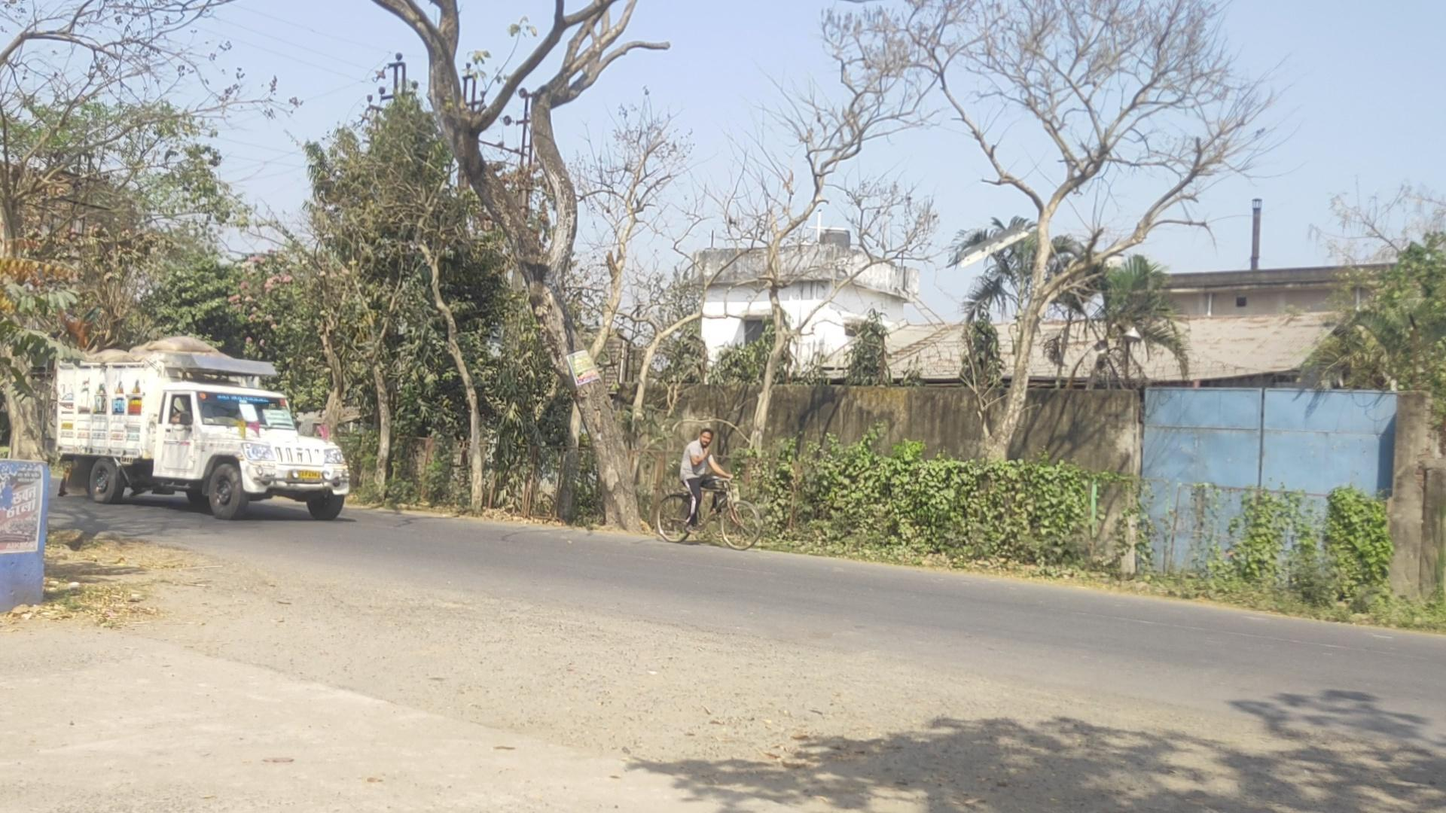bike: (658, 426, 764, 551)
van: (56, 333, 349, 521)
